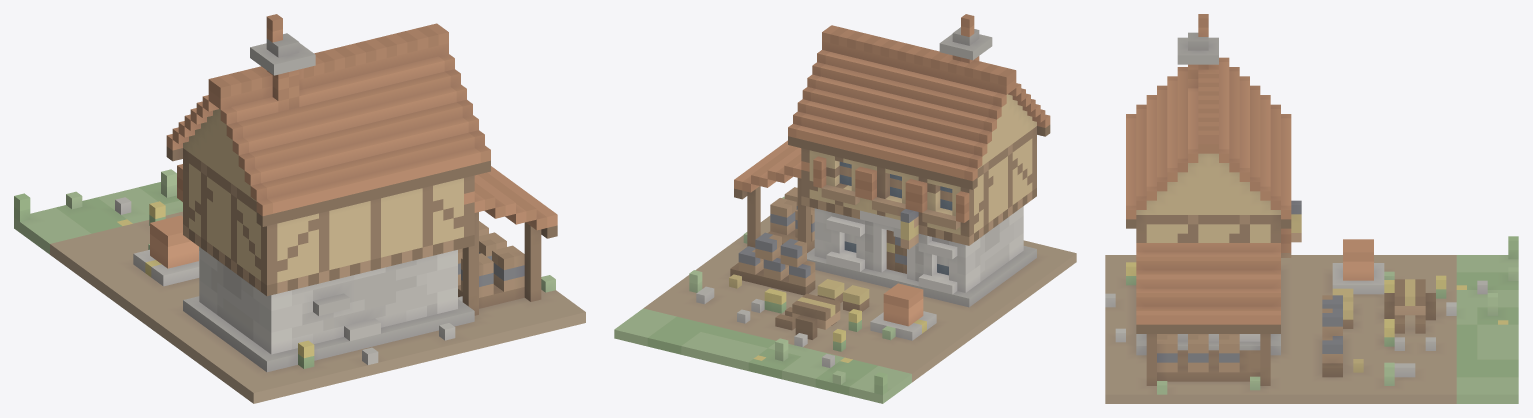
The model's file is meadery.glb.
3 views of the same model, side by side, from view 1: azimuth 30°, elevation 25°; view 2: azimuth 150°, elevation 25°; view 3: azimuth 270°, elevation 25° (orthographic). The views are drawn at different scales.
Visible parts, largest first — view 1: meadery; view 2: meadery; view 3: meadery.
Part boxes in pixels (x1,y1,x2,y2): meadery: (14, 14, 585, 403); meadery: (614, 14, 1076, 403); meadery: (1105, 14, 1518, 403).
Bounding box in the file's own units: 4 × 3.75 × 5.
